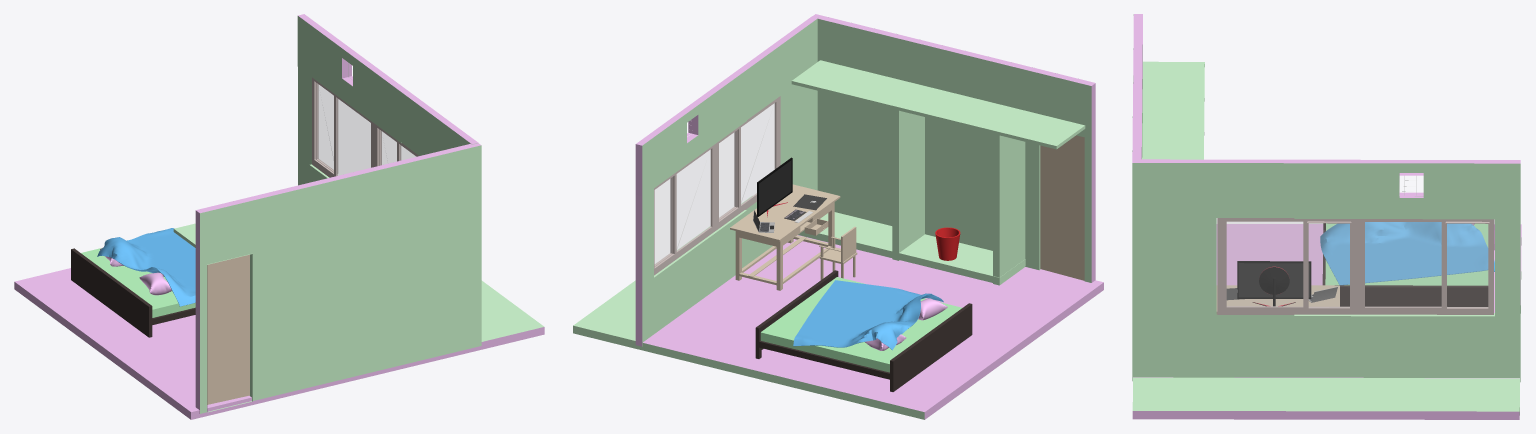
File: final_room.glb
3 views of the same model, side by side, from view 1: azimuth 30°, elevation 25°; view 2: azimuth 150°, elevation 25°; view 3: azimuth 270°, elevation 25° (orthographic). The views are drawn at different scales.
Parts seen in each view (by area): view 1: bin wall, floor, window_wall, door, bed, window_1, sheet, window_2, pillow_1; view 2: bin wall, floor, window_wall, bed, sheet, door, window_1, window_2, desk, monitor, chair, bin; view 3: window_wall, floor, window_2, window_1, bin wall, sheet, bed, monitor, desk.
Boxes of the visible parts, x1=… form: bin wall: x1=173, y1=143, x2=481, y2=413; floor: x1=14, y1=268, x2=544, y2=419; window_wall: x1=297, y1=14, x2=478, y2=185; door: x1=207, y1=254, x2=249, y2=404; bed: x1=71, y1=248, x2=195, y2=337; window_1: x1=312, y1=77, x2=374, y2=177; sheet: x1=97, y1=228, x2=195, y2=306; window_2: x1=375, y1=124, x2=418, y2=166; pillow_1: x1=139, y1=272, x2=171, y2=295; bin wall: x1=791, y1=14, x2=1095, y2=285; floor: x1=573, y1=195, x2=1103, y2=419; window_wall: x1=635, y1=16, x2=818, y2=346; bed: x1=755, y1=270, x2=972, y2=391; sheet: x1=793, y1=280, x2=943, y2=350; door: x1=1040, y1=135, x2=1084, y2=280; window_1: x1=654, y1=143, x2=716, y2=275; window_2: x1=716, y1=96, x2=780, y2=229; desk: x1=730, y1=184, x2=840, y2=290; monitor: x1=757, y1=157, x2=792, y2=216; chair: x1=819, y1=226, x2=857, y2=279; bin: x1=935, y1=227, x2=960, y2=260; window_wall: x1=1139, y1=159, x2=1520, y2=382; floor: x1=1132, y1=224, x2=1521, y2=419; window_2: x1=1217, y1=218, x2=1355, y2=314; window_1: x1=1355, y1=219, x2=1493, y2=314; bin wall: x1=1132, y1=14, x2=1204, y2=381; sheet: x1=1320, y1=222, x2=1494, y2=285; bed: x1=1322, y1=219, x2=1494, y2=306; monitor: x1=1237, y1=261, x2=1311, y2=306; desk: x1=1216, y1=285, x2=1339, y2=313.
Size of the model in its own units: 46.31 by 25.64 by 40.57.
